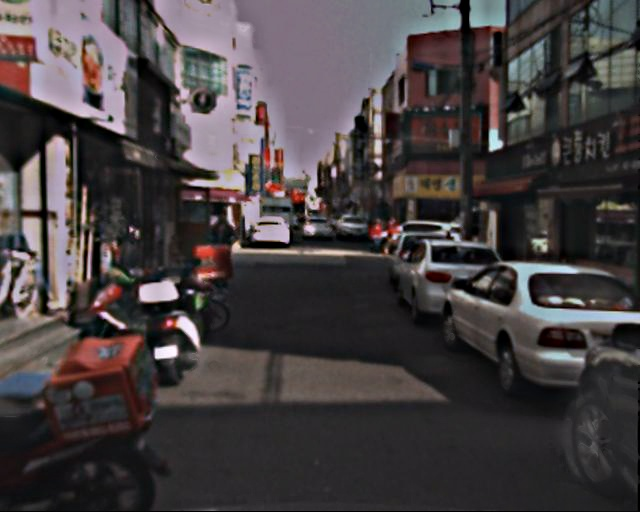person: (204, 206, 242, 298), (386, 217, 402, 256), (370, 217, 385, 254)
